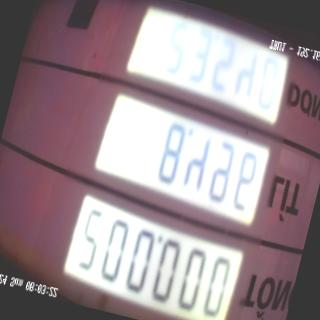screen: (48, 0, 306, 320)
